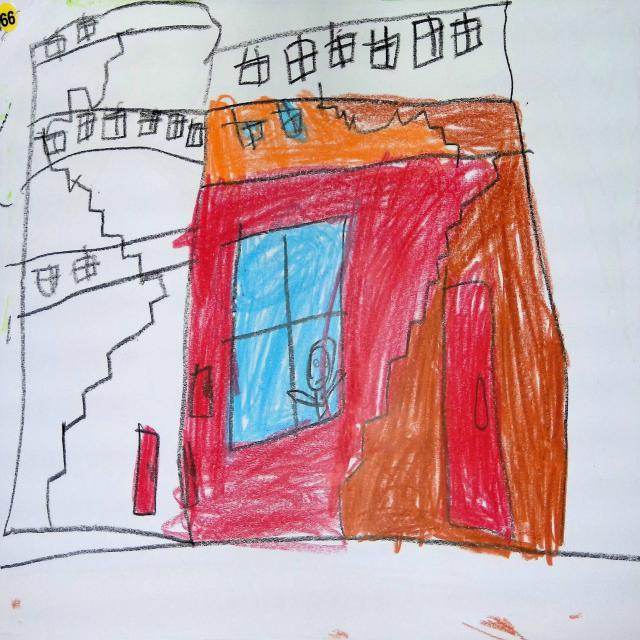door: (445, 282, 514, 538), (133, 424, 159, 516), (179, 441, 199, 508), (190, 366, 213, 418)
house: (6, 1, 567, 556)
wall: (7, 2, 567, 556)
window: (230, 221, 346, 446), (284, 34, 317, 84), (413, 15, 444, 68), (364, 25, 400, 68), (451, 11, 484, 56), (325, 22, 357, 66), (234, 46, 270, 84), (71, 248, 100, 284), (278, 100, 304, 140), (31, 265, 58, 298), (101, 109, 126, 140), (238, 122, 264, 148), (42, 128, 65, 156), (76, 111, 95, 142), (166, 113, 187, 140), (137, 111, 158, 136), (76, 15, 95, 42), (44, 34, 65, 58), (186, 119, 204, 146)
